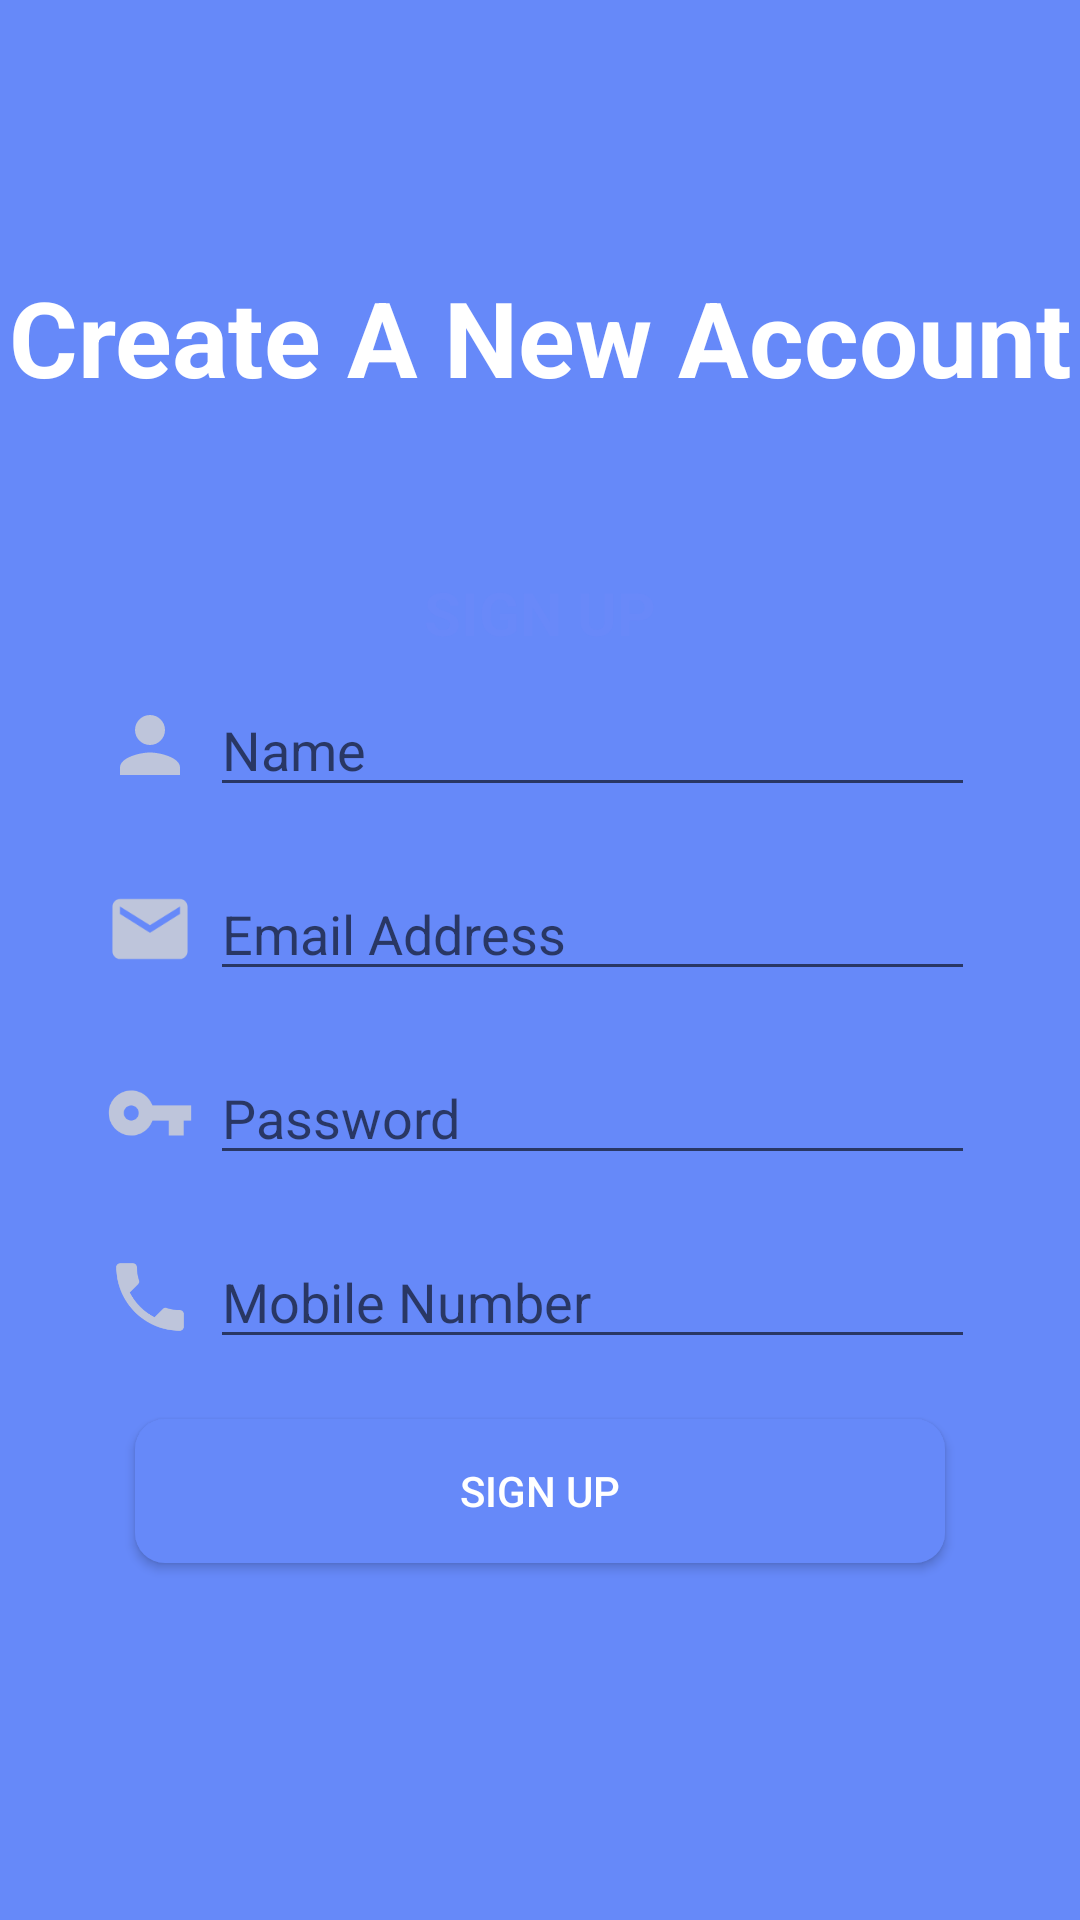

Icon bounding boxes for this 1080 × 1920 phone screenshot, format bbox=(x1, y1, x2, y2):
phone: bbox=(116, 1263, 184, 1331)
